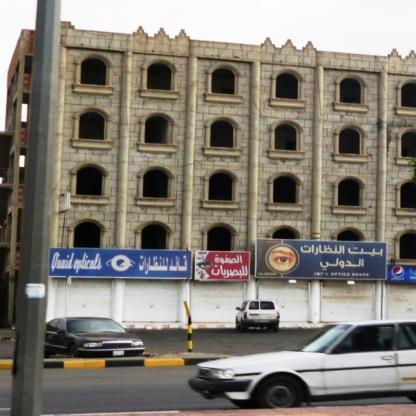Car: (184, 318, 415, 407), (47, 317, 153, 360), (238, 301, 285, 332)
